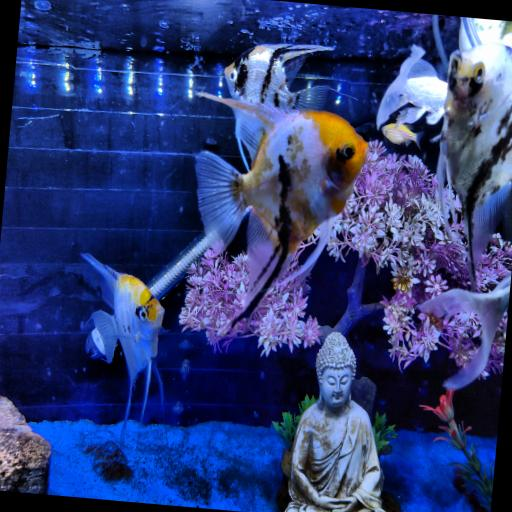Fish: (196, 94, 368, 327), (437, 44, 511, 290), (82, 254, 164, 439), (420, 274, 510, 389), (225, 44, 333, 110), (377, 45, 447, 128), (459, 17, 511, 51), (382, 124, 423, 148)
